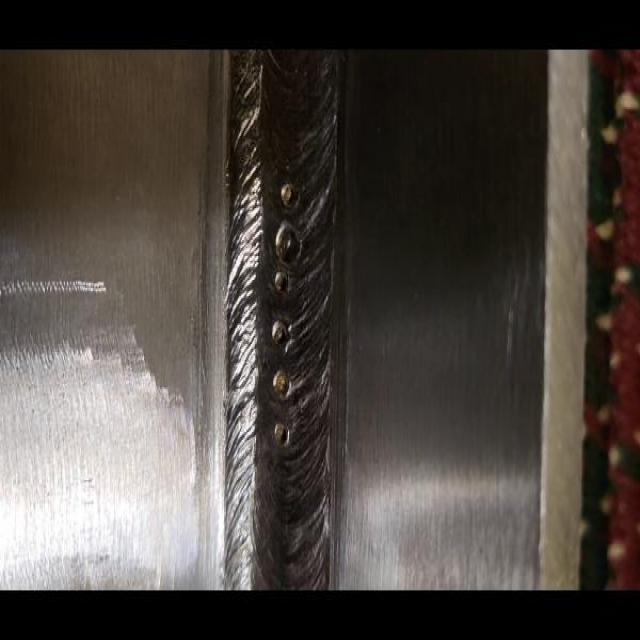Welding Line: (230, 51, 324, 588)
Workpiece: (2, 52, 585, 593)
porosity: (270, 178, 302, 448)
